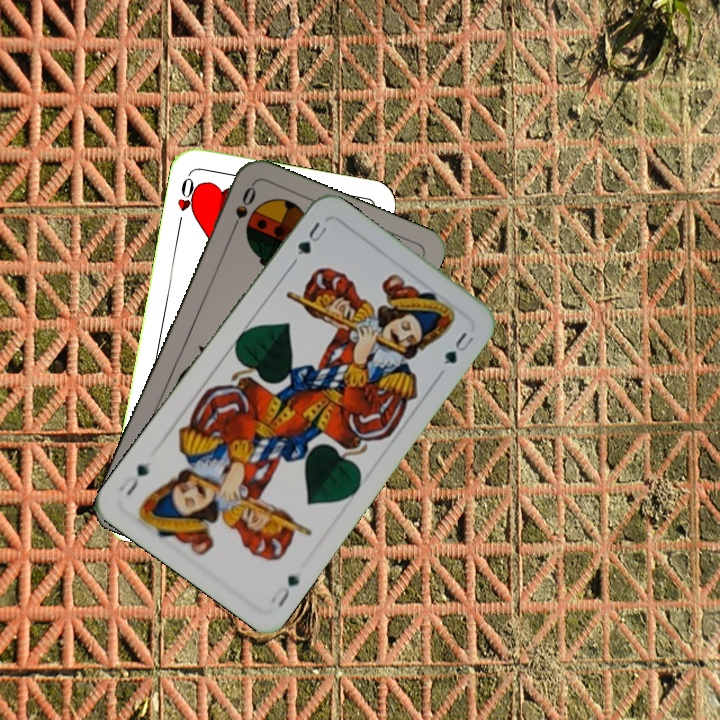GU: (288, 217, 330, 267), (266, 570, 303, 610)
HO: (173, 171, 202, 230)
SO: (226, 182, 259, 238)
